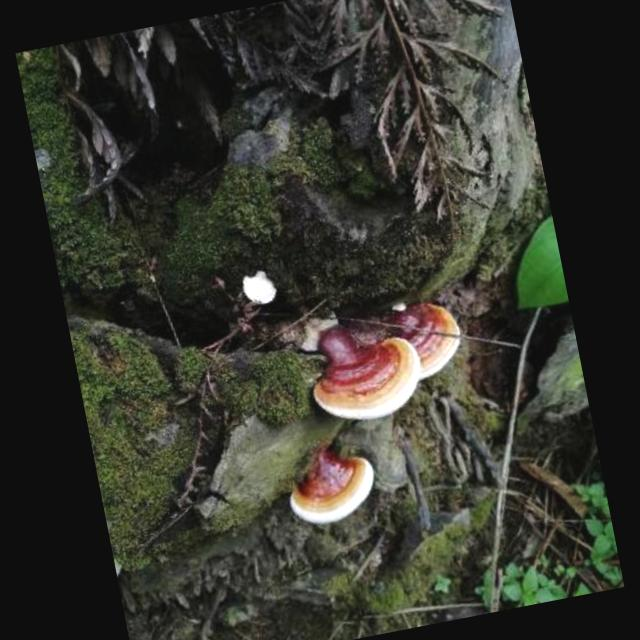ganoderma: (302, 312, 434, 433), (282, 437, 385, 533), (386, 296, 474, 388)
primordium: (242, 267, 283, 310)
